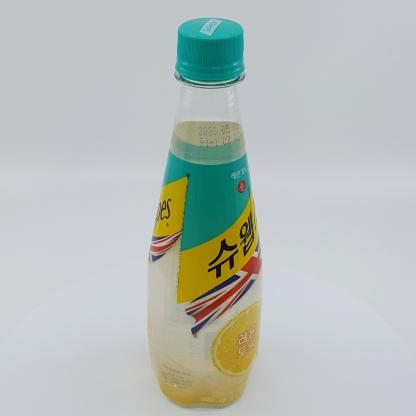-------350ML: (146, 18, 263, 406)
